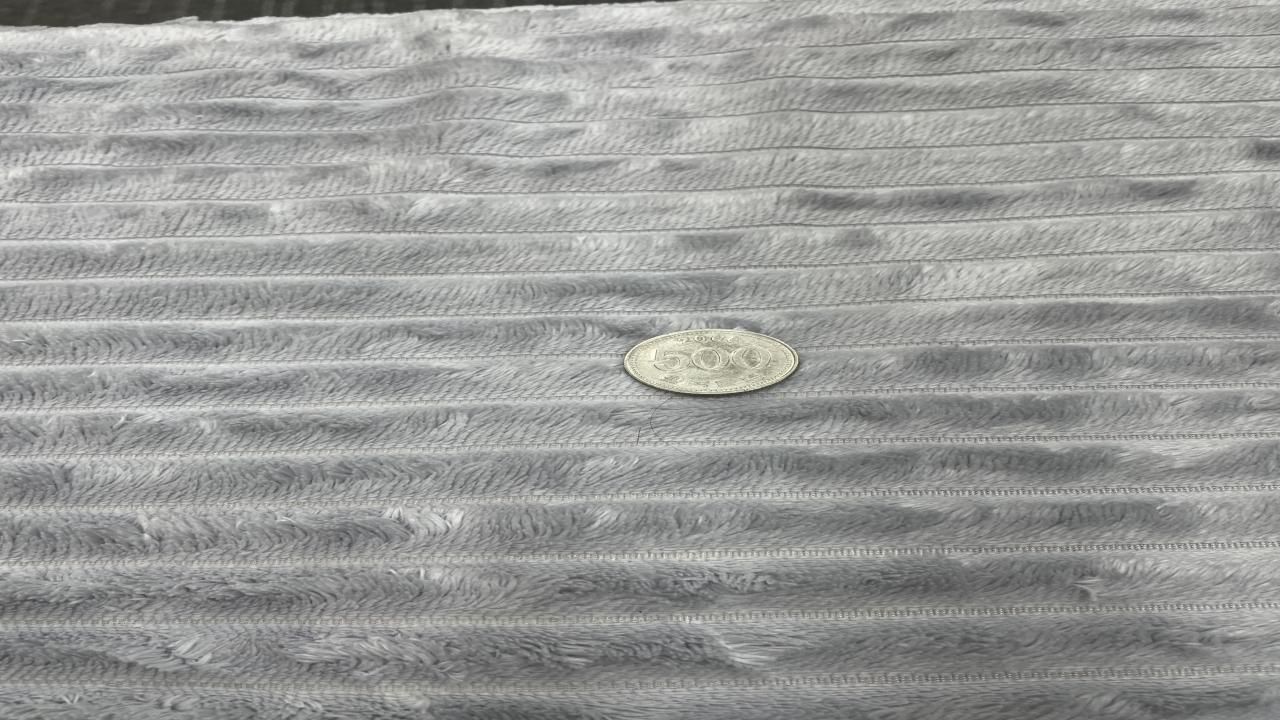coin: (624, 329, 800, 395)
